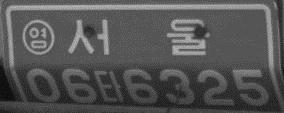0: (25, 67, 61, 103)
2: (197, 68, 233, 107)
3: (159, 68, 195, 105)
5: (234, 68, 269, 107)
6: (61, 66, 96, 103), (124, 68, 157, 104)
서울_D: (67, 18, 210, 57)
영: (20, 18, 55, 55)
타: (96, 70, 123, 103)
